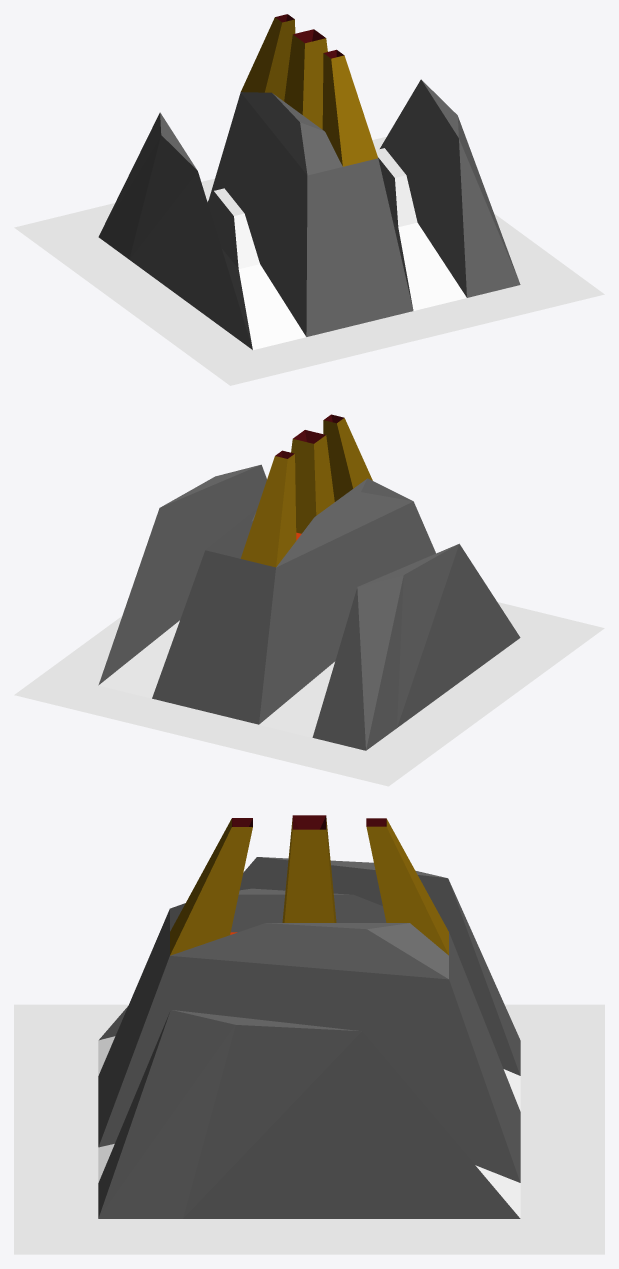
File: PowerStation.fbx
3 renders of one model, top to bottom at view 1: azimuth 30°, elevation 25°; view 2: azimuth 150°, elevation 25°; view 3: azimuth 270°, elevation 25°, orthographic. The views are drawn at different scales.
Parts seen in each view (by area): view 1: Grid; view 2: Grid; view 3: Grid.
Boxes of the visible parts, x1,y1,x2,y2 form: Grid: (14, 14, 604, 385); Grid: (14, 414, 604, 786); Grid: (14, 815, 604, 1254).
Bounding box in the file's own units: 1000 × 573 × 1000.
